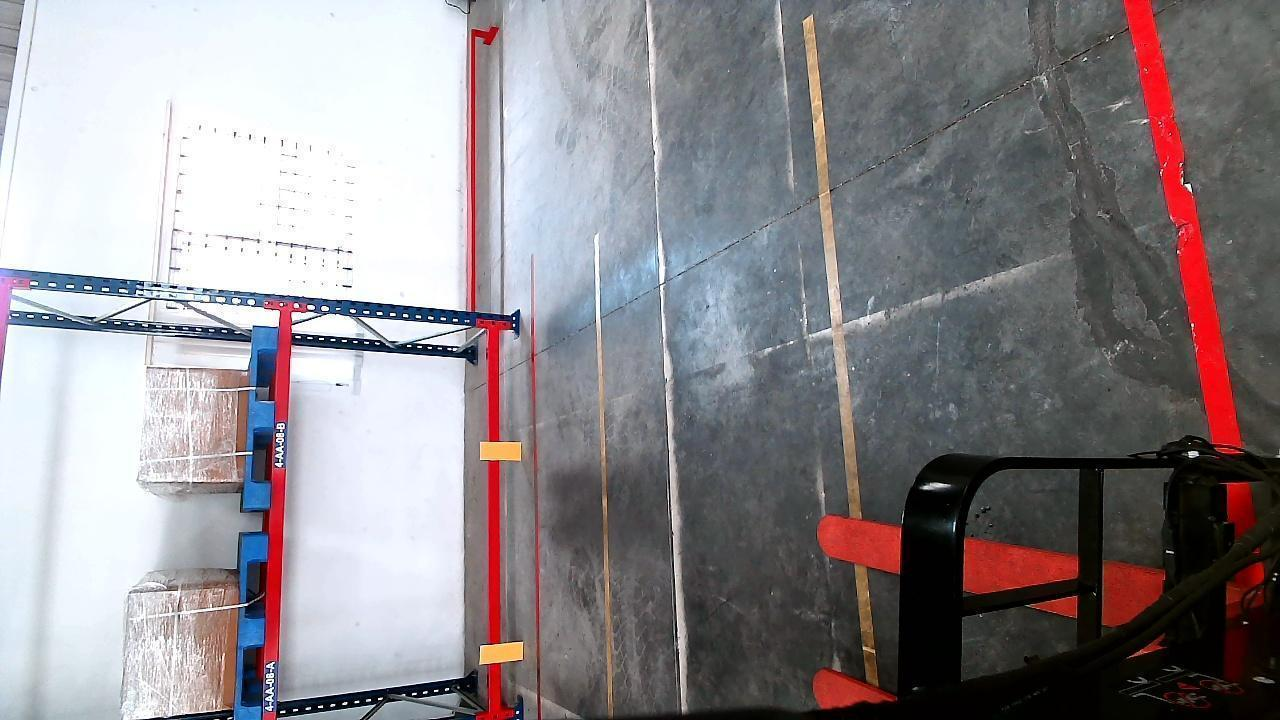red_line: (1122, 0, 1243, 447), (528, 253, 543, 720)
yellow_line: (799, 13, 878, 693), (594, 242, 620, 717)
